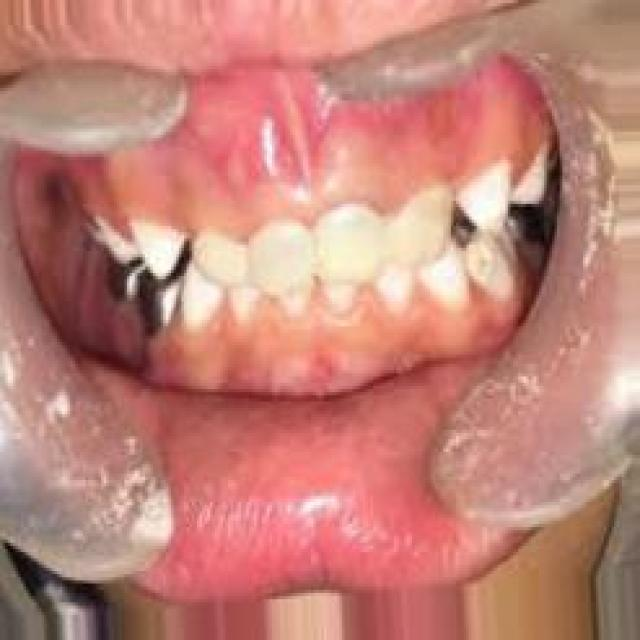caries: (115, 270, 181, 345)
